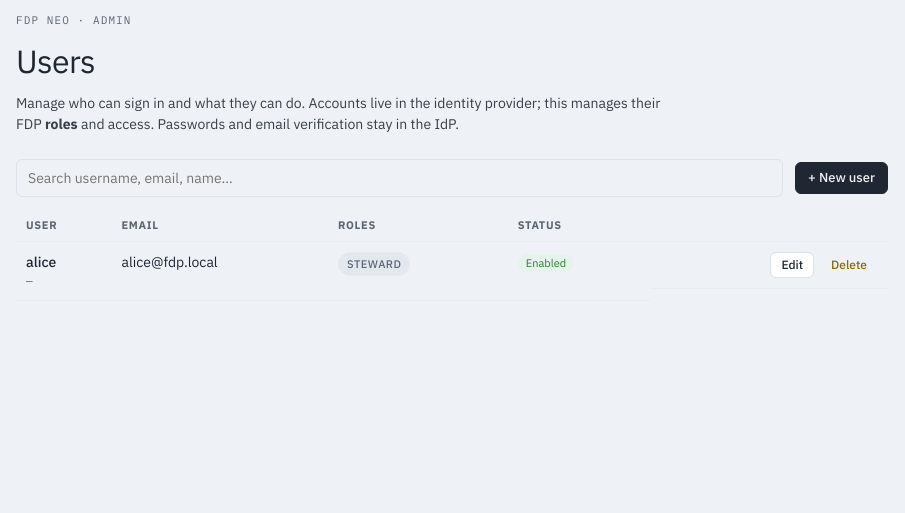
it: UsersAdminView › opens the create form with a literal email placeholder
Click the button "+ New user". click: (842,178)
box: [795,162,888,194]
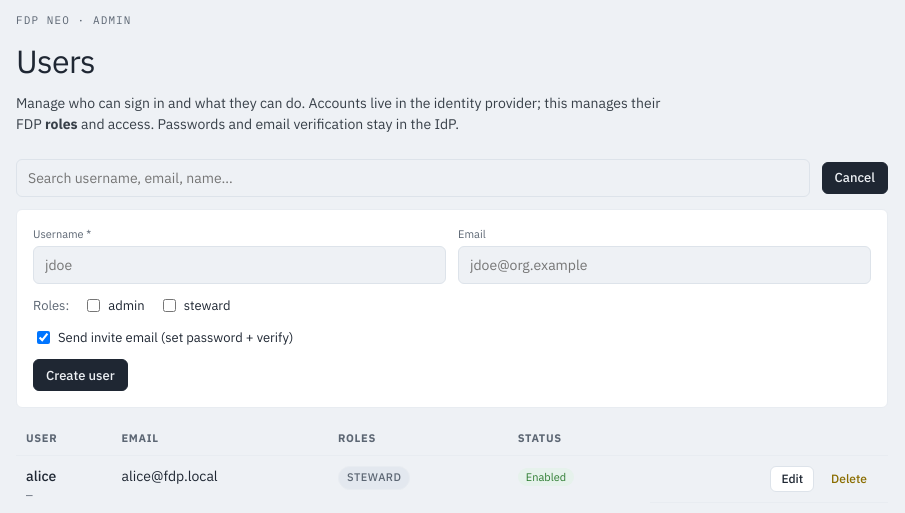
expect the form with class "create" is shown: met, box [16,208,888,408]
